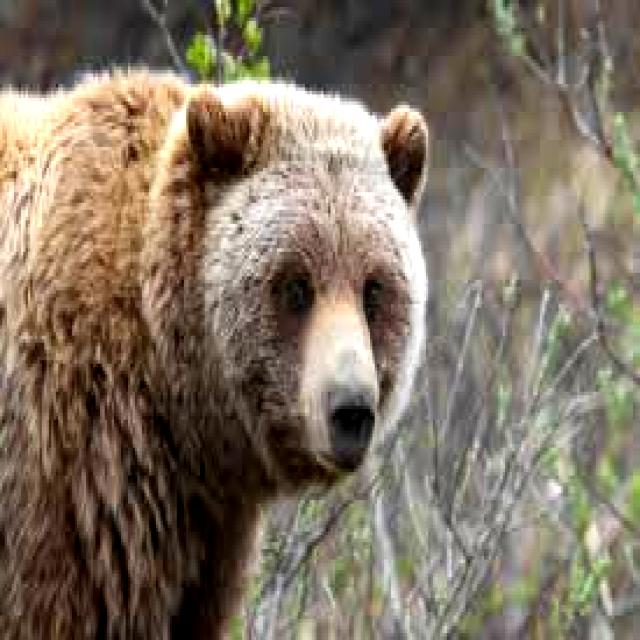bear: (8, 39, 395, 626)
